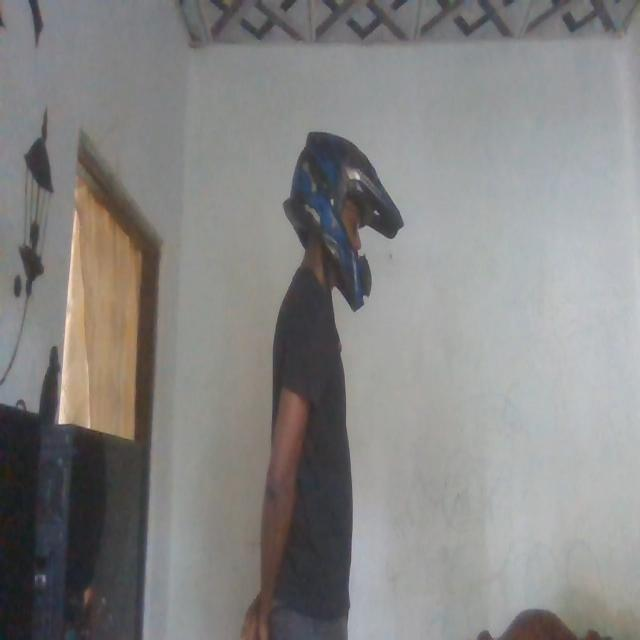Helmet_Wearer: (282, 121, 398, 328)
Person: (234, 119, 404, 640)
